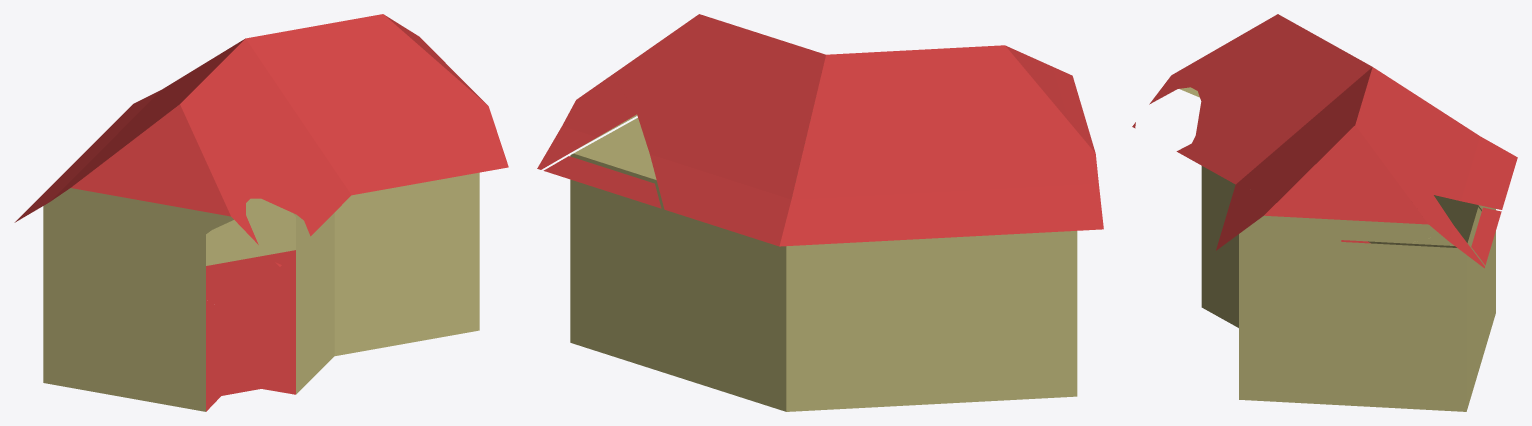
3 views of the same model, side by side, from view 1: azimuth 30°, elevation 25°; view 2: azimuth 150°, elevation 25°; view 3: azimuth 270°, elevation 25° (orthographic). The views are drawn at different scales.
Bounding box in the file's own units: 23.6 × 18.58 × 13.78.
